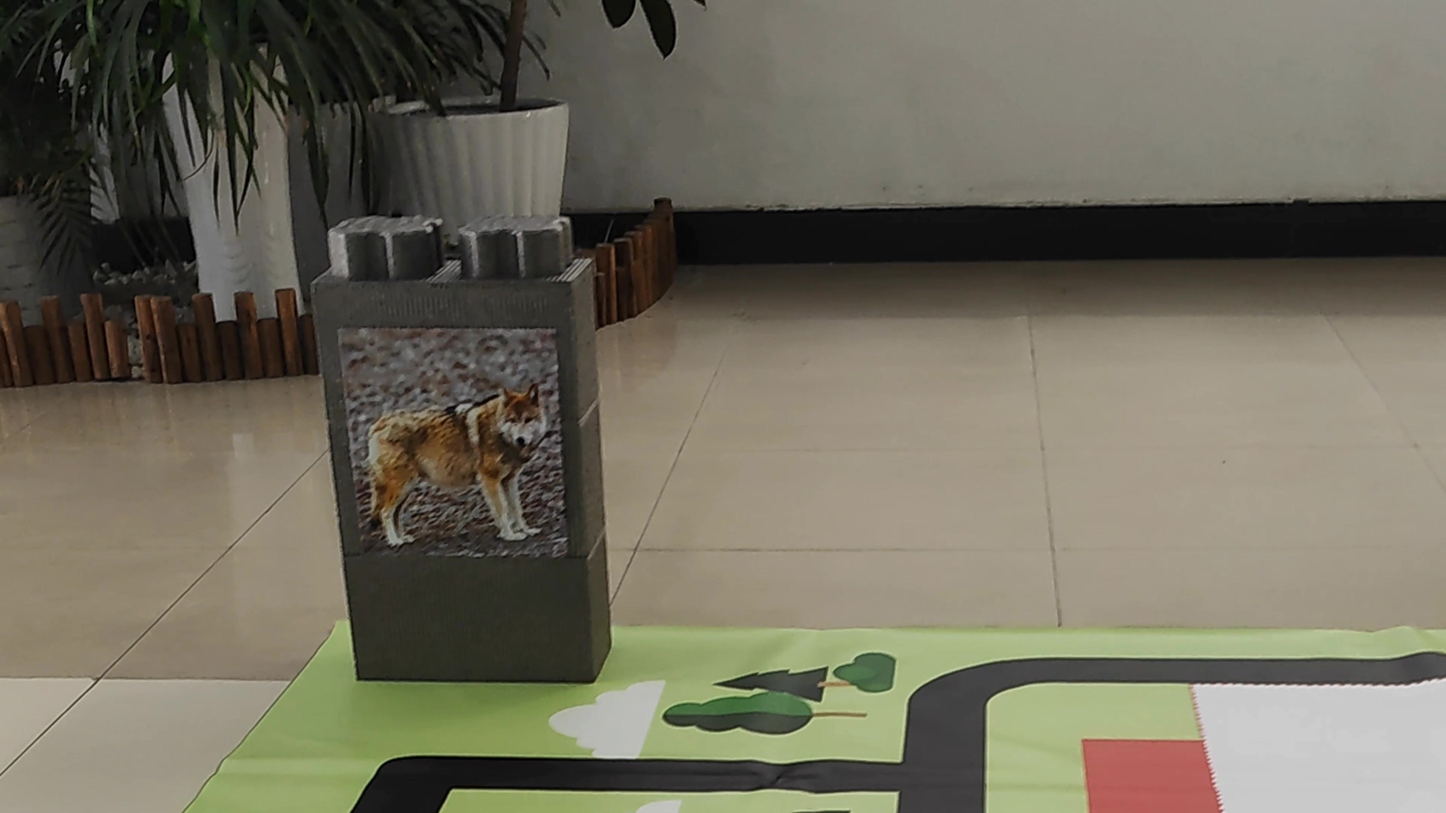wolf: (340, 328, 581, 558)
